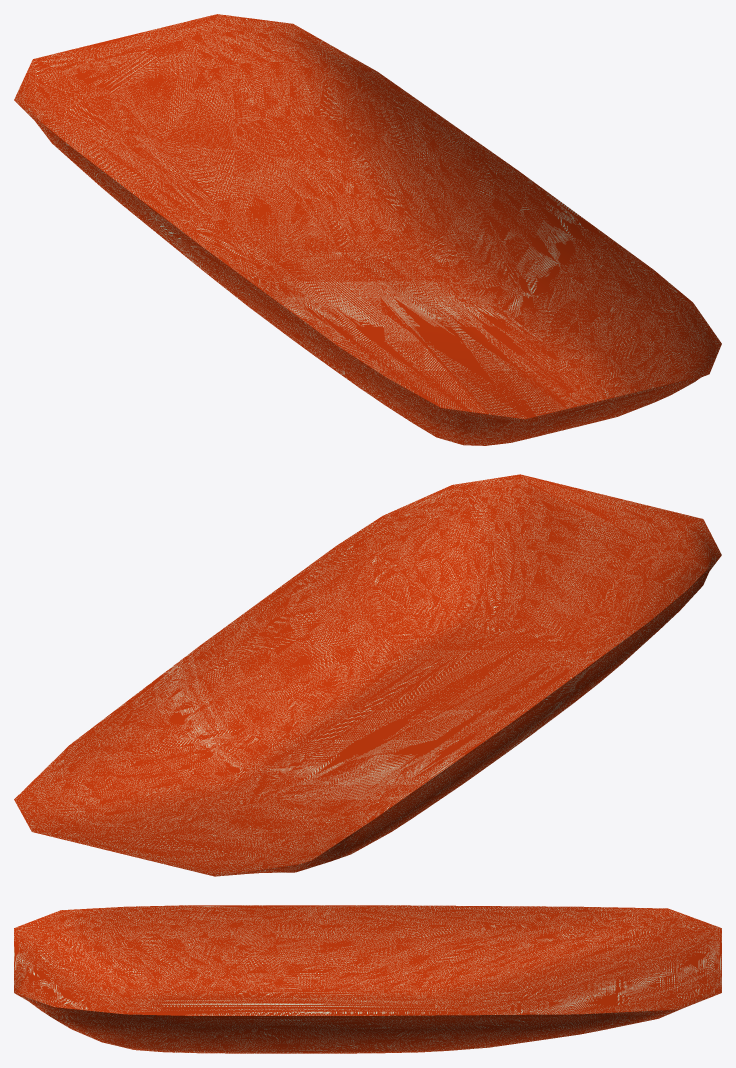
Rendered from original-4.obj.
The picture shows the model from 3 angles, top to bottom: view 1: azimuth 30°, elevation 25°; view 2: azimuth 150°, elevation 25°; view 3: azimuth 270°, elevation 25°; orthographic projection. The views are drawn at different scales.
Parts seen in each view (by area): view 1: mesh2/mesh2-geometry#mesh2-geometry; view 2: mesh2/mesh2-geometry#mesh2-geometry; view 3: mesh2/mesh2-geometry#mesh2-geometry.
Part boxes in pixels (x1=…): mesh2/mesh2-geometry#mesh2-geometry: x1=14, y1=14, x2=721, y2=445; mesh2/mesh2-geometry#mesh2-geometry: x1=14, y1=474, x2=721, y2=876; mesh2/mesh2-geometry#mesh2-geometry: x1=14, y1=905, x2=721, y2=1053.
Size of the model in its own units: 0.1226 by 0.0319 by 0.3317.
